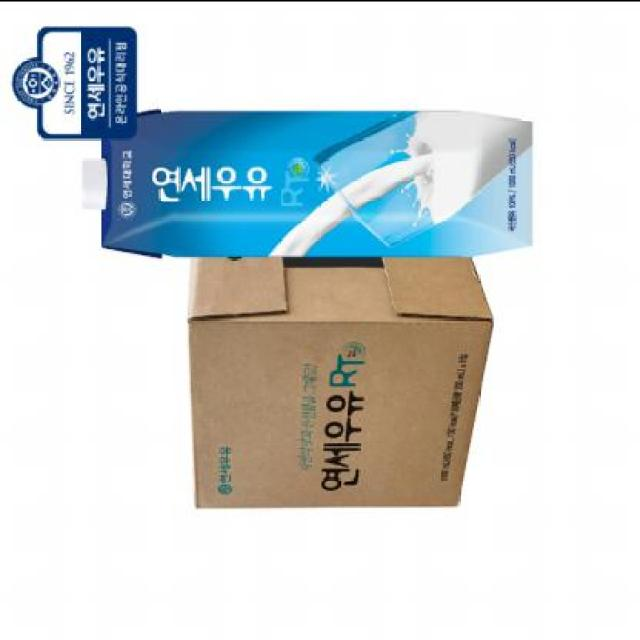tetra: (58, 74, 557, 280)
